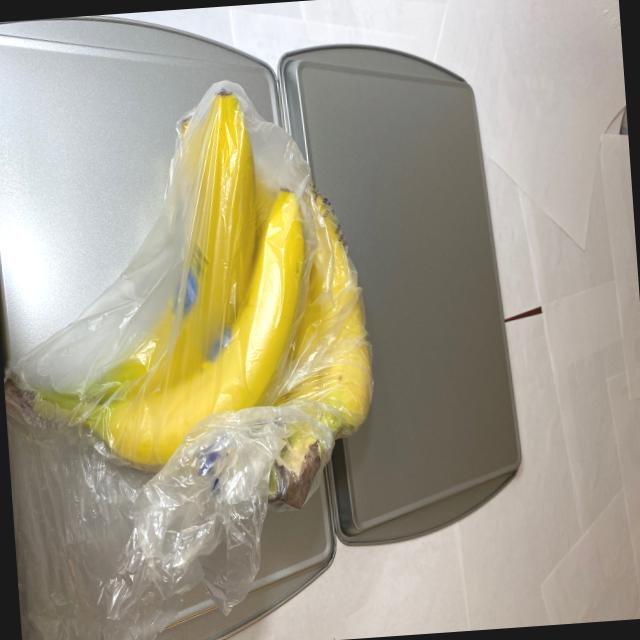banana: (0, 74, 390, 529)
